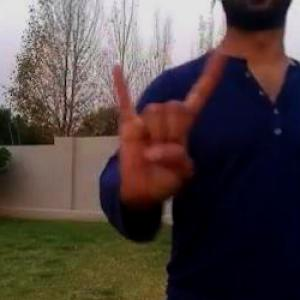takeoff-hand: (108, 49, 227, 210)
